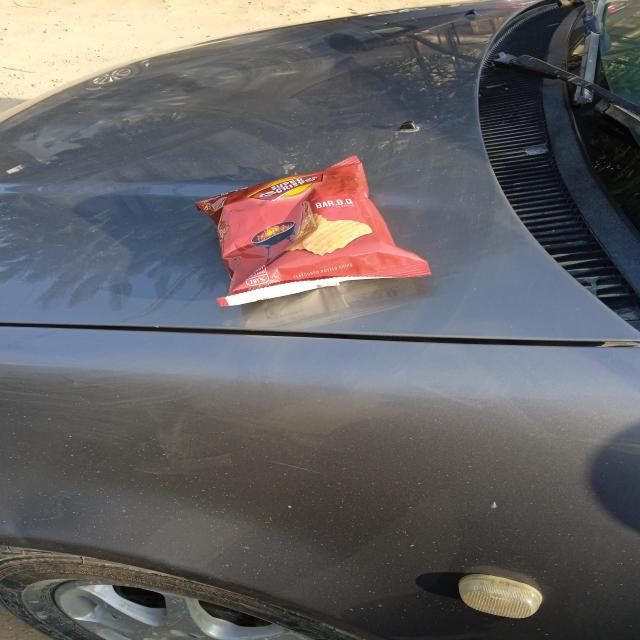Plastic: (204, 158, 428, 308)
